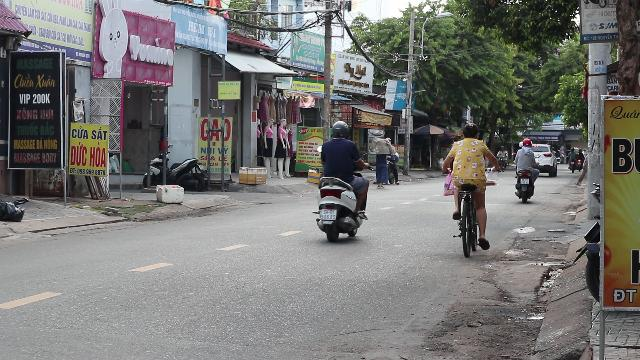helmet: (329, 120, 349, 138)
licenseplate: (319, 209, 336, 219)
motorcyclist: (312, 120, 370, 242)
